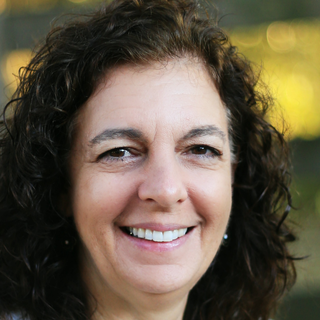eye: (96, 141, 147, 165), (177, 140, 223, 164)
